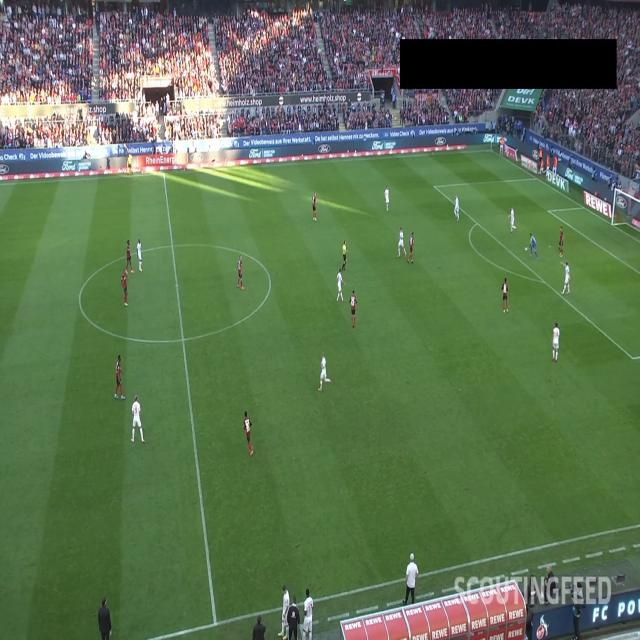ball: (525, 246, 528, 252)
